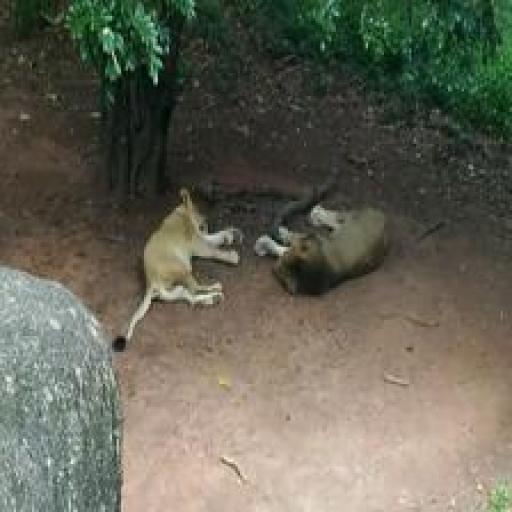Tiger: (117, 148, 248, 375)
